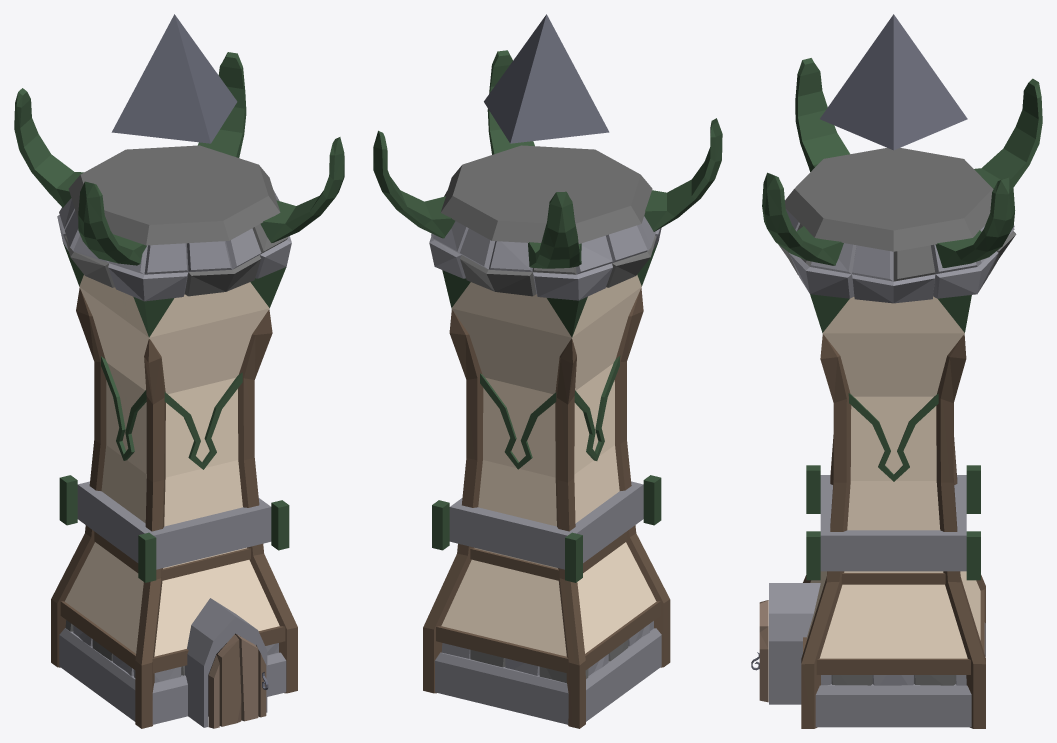
The model's file is Poison_Tower_lv2.gltf.
3 views of the same model, side by side, from view 1: azimuth 30°, elevation 25°; view 2: azimuth 150°, elevation 25°; view 3: azimuth 270°, elevation 25° (orthographic). The views are drawn at different scales.
Parts seen in each view (by area): view 1: Poison_Tower_LVL_2_Body, Poison_Tower_LVL_2_Head; view 2: Poison_Tower_LVL_2_Body, Poison_Tower_LVL_2_Head; view 3: Poison_Tower_LVL_2_Body, Poison_Tower_LVL_2_Head.
Boxes of the visible parts, <box> form: Poison_Tower_LVL_2_Body: <box>14,52,344,728</box>; Poison_Tower_LVL_2_Head: <box>111,14,237,143</box>; Poison_Tower_LVL_2_Body: <box>373,50,722,728</box>; Poison_Tower_LVL_2_Head: <box>484,14,609,143</box>; Poison_Tower_LVL_2_Body: <box>751,58,1042,728</box>; Poison_Tower_LVL_2_Head: <box>820,14,967,150</box>.
Size of the model in its own units: 3.05 by 7.64 by 2.99.
2 materials, 2 textured.
